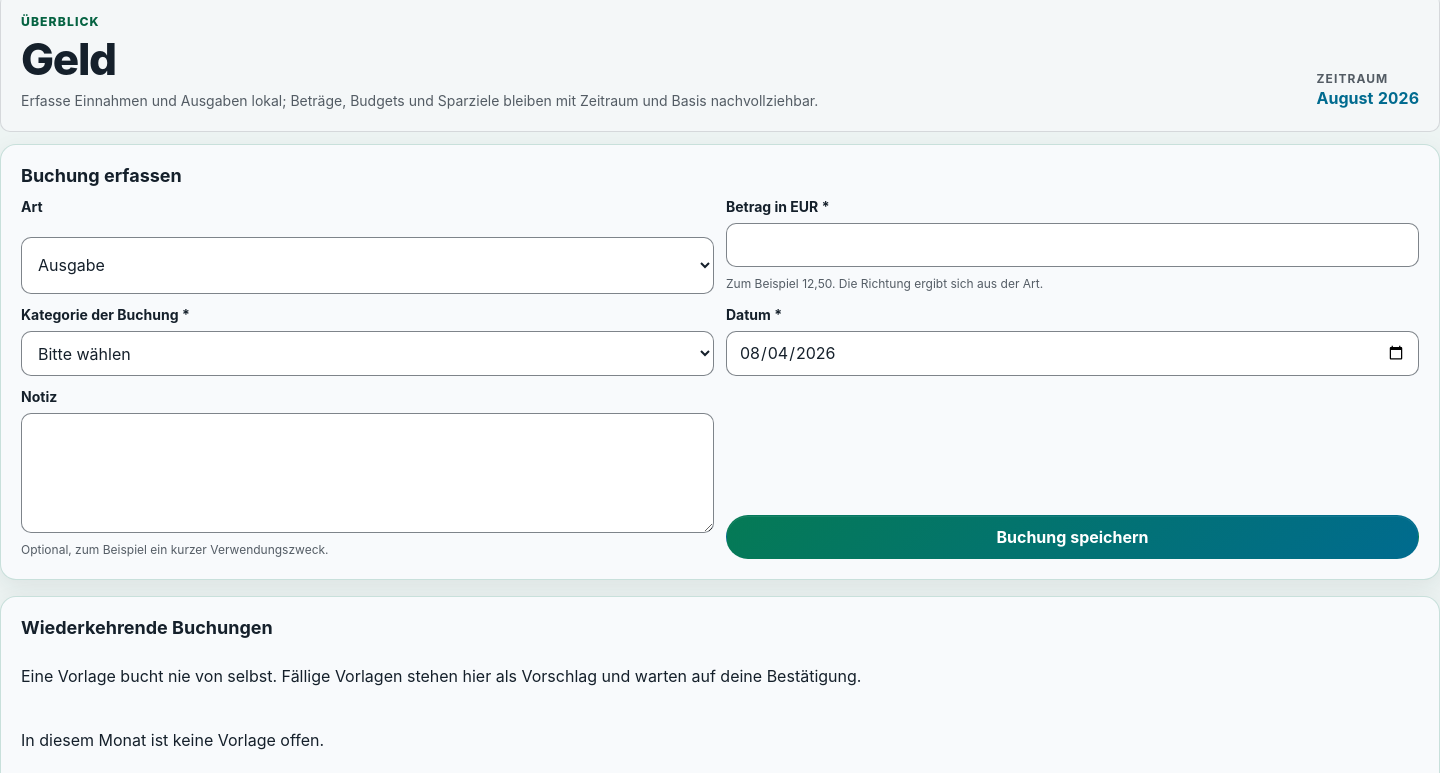
Test: FinancePage › puts the remaining budget with the budgets, not in the monthly row
Select "Ausgabe" in the dropdown labelled "Art" at [368, 265], box left=21, top=237, right=714, bottom=294
Type "12,50" into the field labelled "Betrag in EUR *" at [1072, 246], box left=726, top=224, right=1419, bottom=268
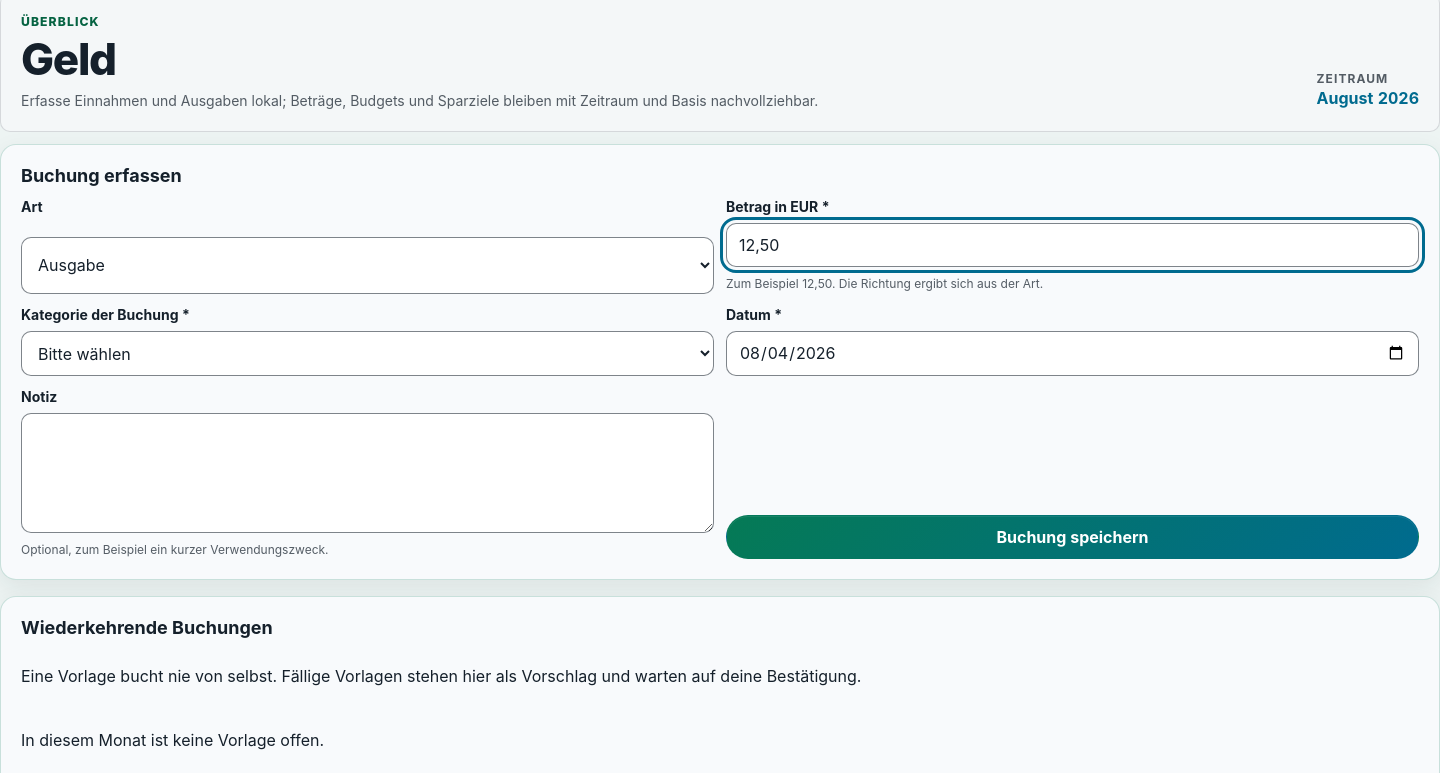
Select "Lebensmittel" in the dropdown labelled "Kategorie der Buchung *" at [368, 354], box left=21, top=332, right=714, bottom=376
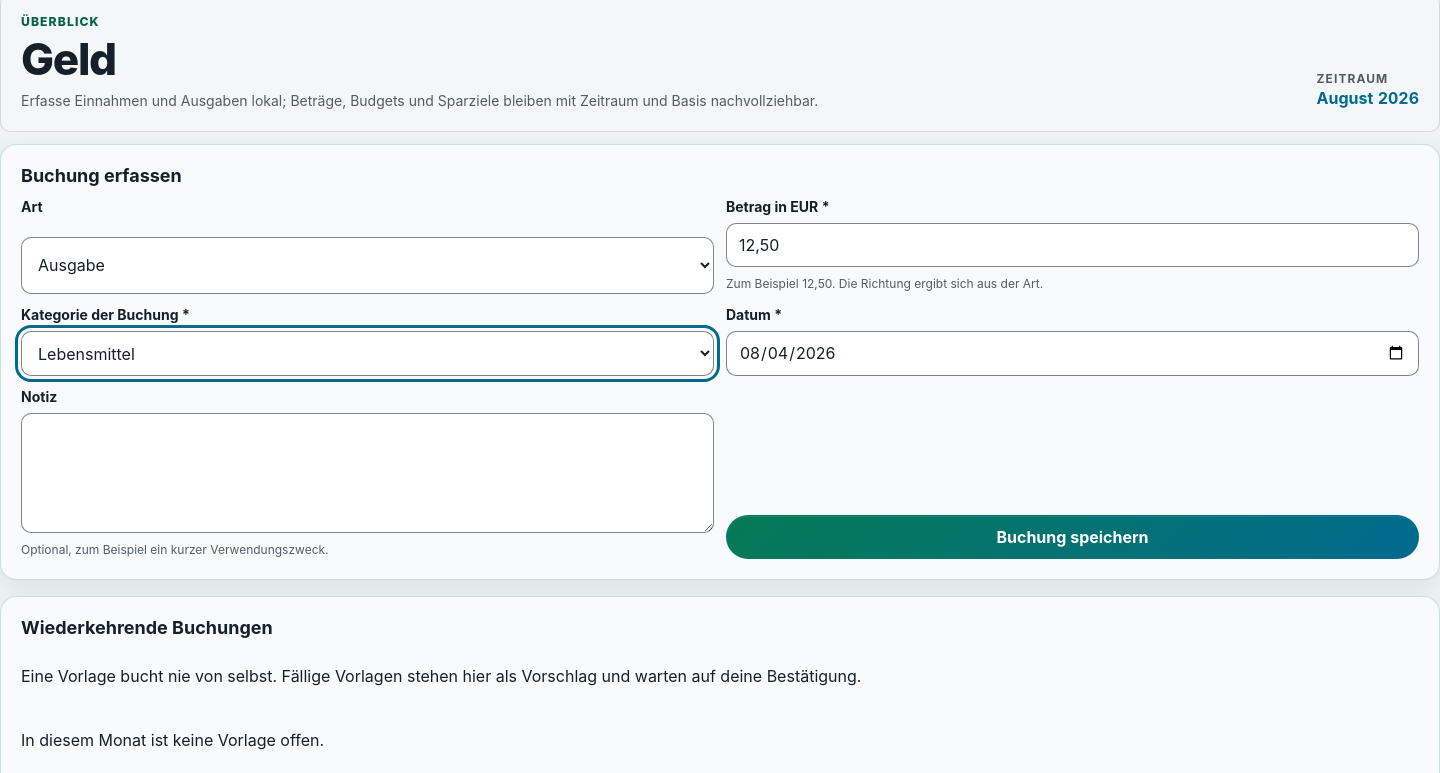
Click the button "Buchung speichern" at [1072, 538], box left=726, top=516, right=1419, bottom=560
(page scrolled)
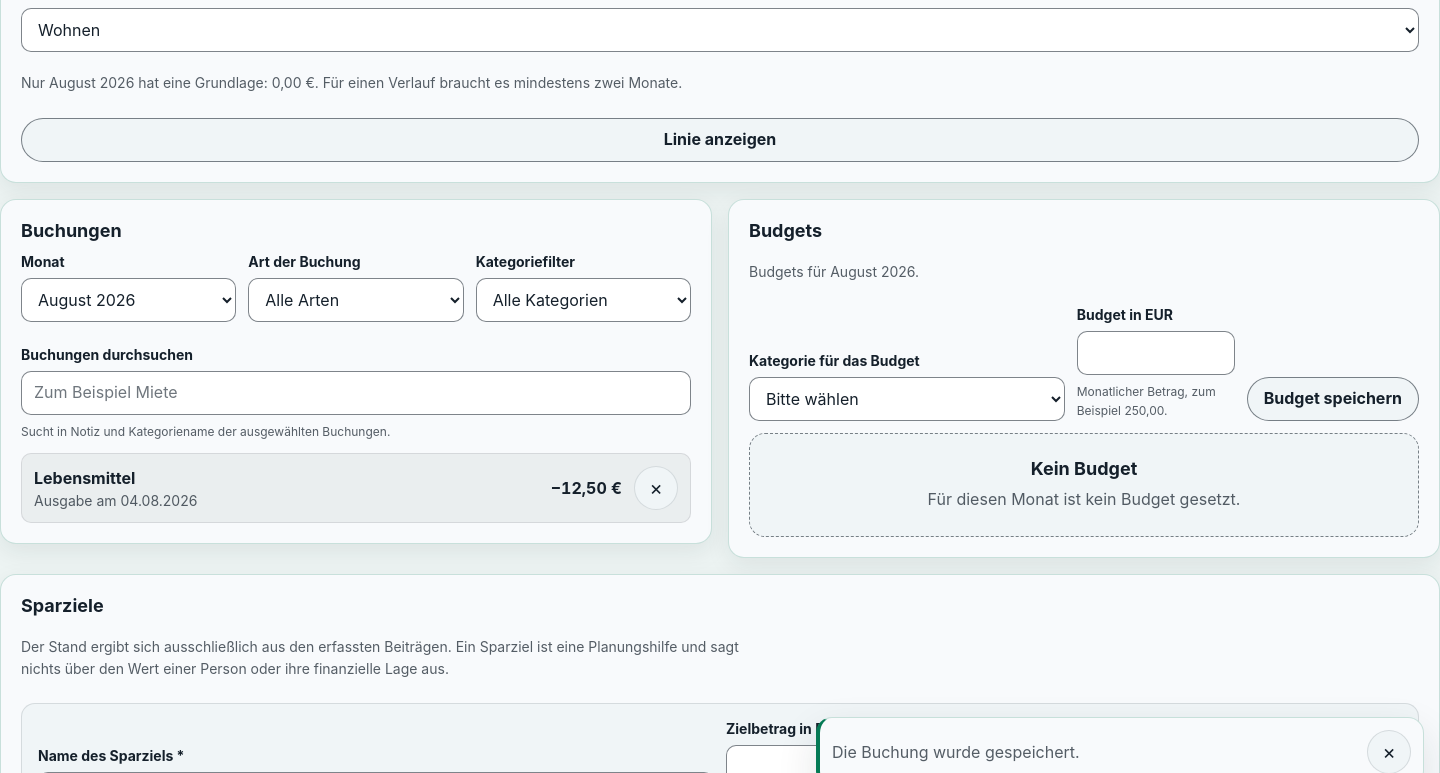
Select "Lebensmittel" in the dropdown labelled "Kategorie für das Budget" at [907, 399], box left=749, top=377, right=1065, bottom=421
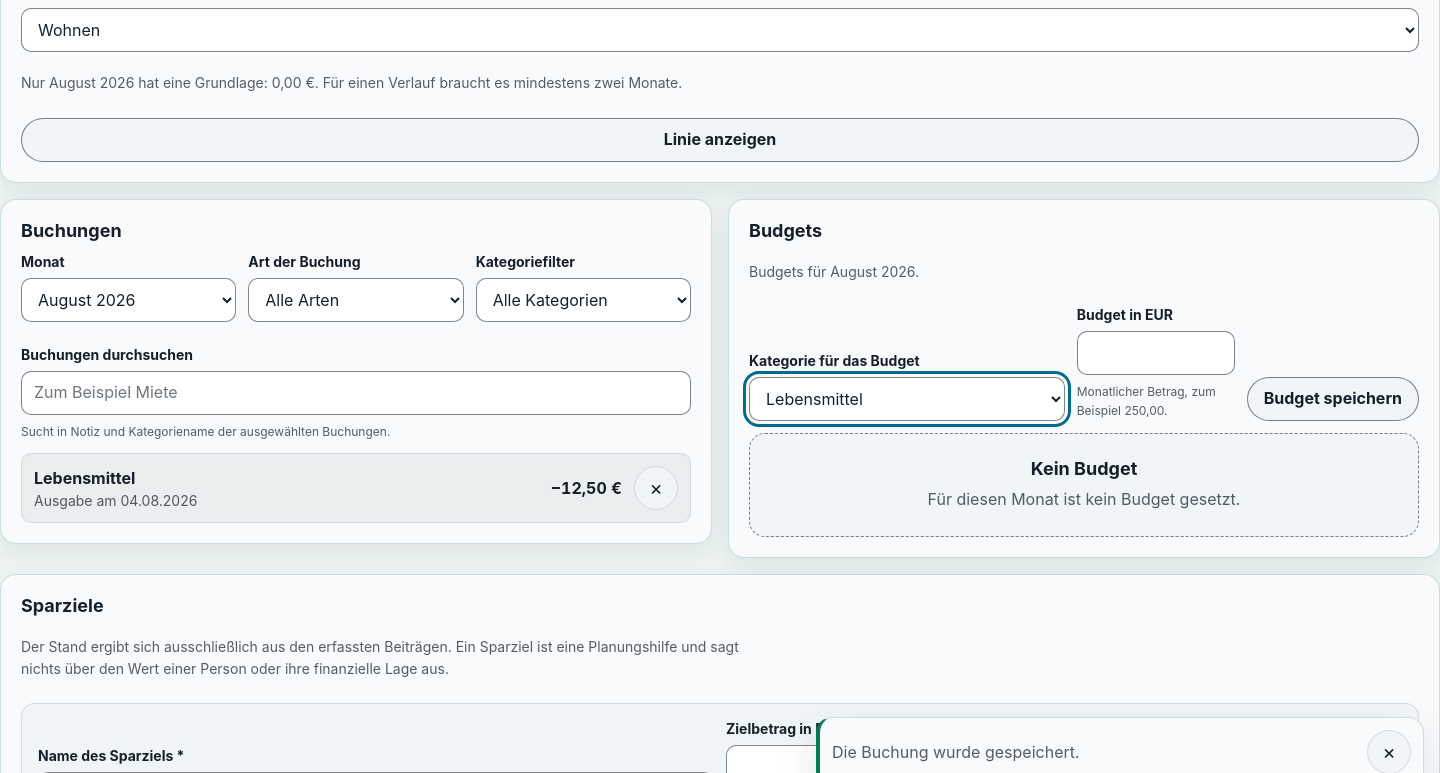
Type "50,00" into the field labelled "Budget in EUR" at [1156, 354], box left=1077, top=332, right=1235, bottom=376
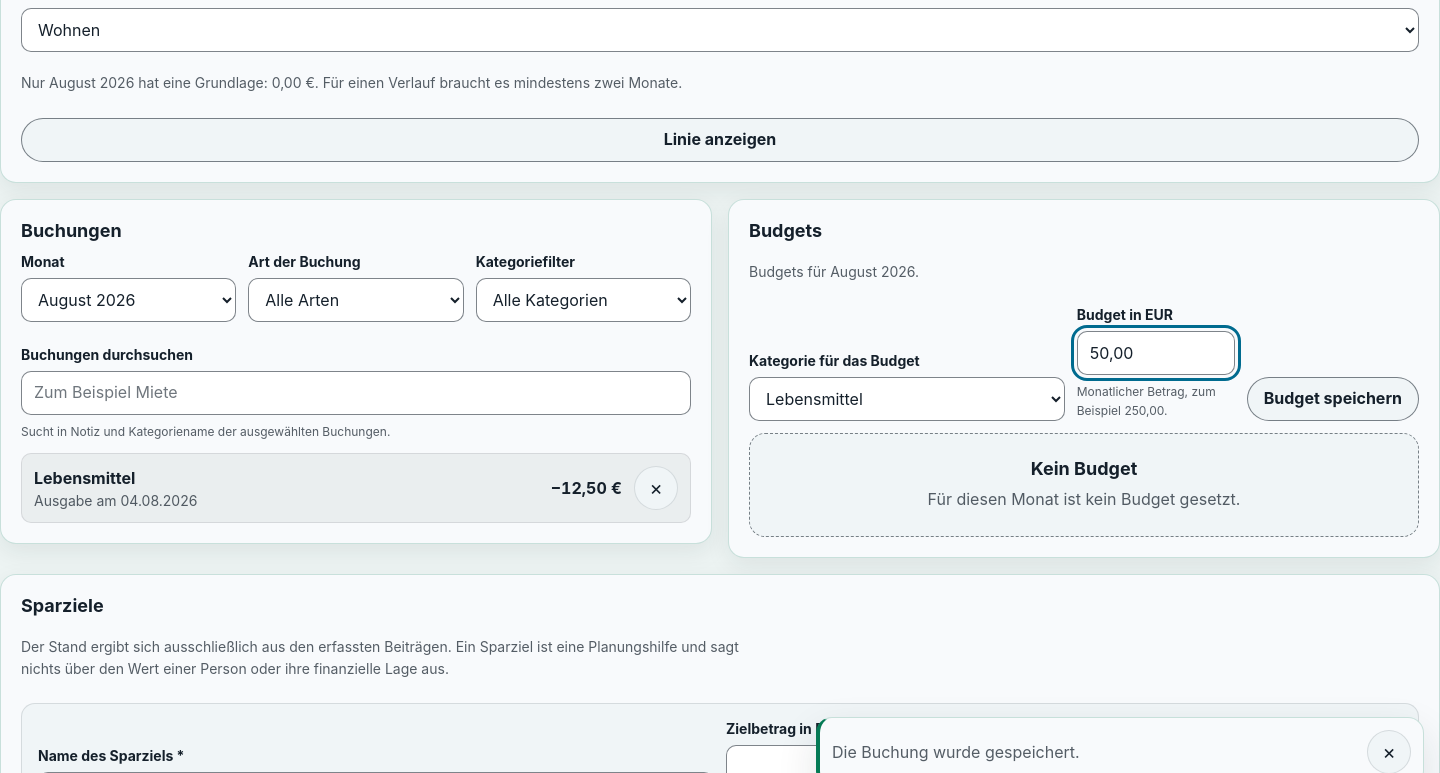
Click the button "Budget speichern" at [1333, 399], box left=1247, top=377, right=1419, bottom=421
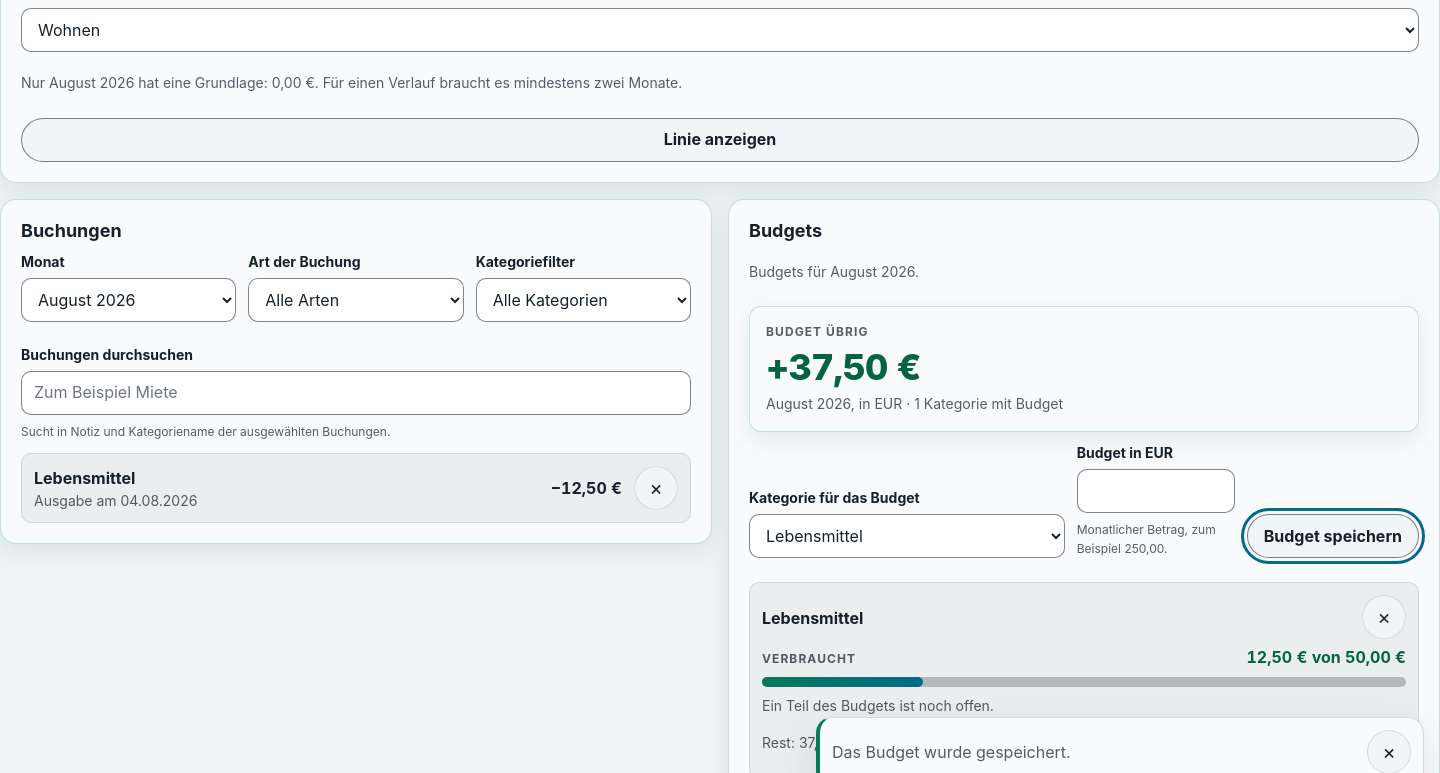
Check: the text "+37,50 €" is shown, box left=766, top=345, right=921, bottom=389
Check: the text "August 2026, in EUR · 1 Kategorie mit Budget" is shown, box left=766, top=395, right=1063, bottom=412
